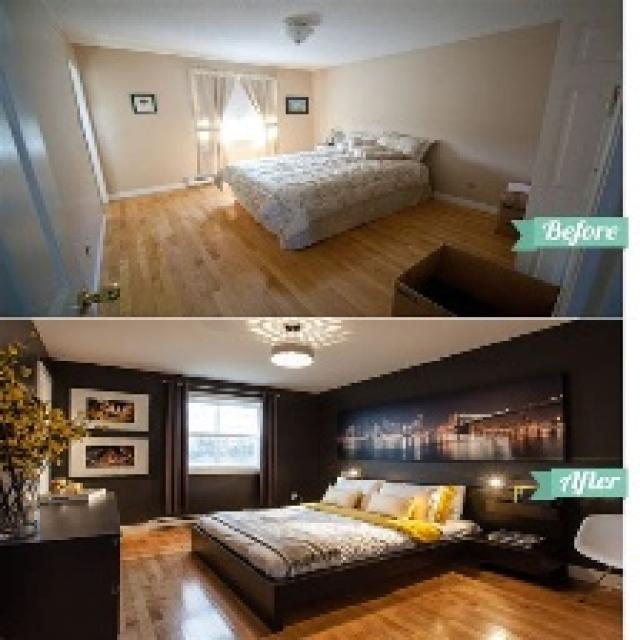Bed: (188, 477, 483, 632), (212, 125, 434, 248)
